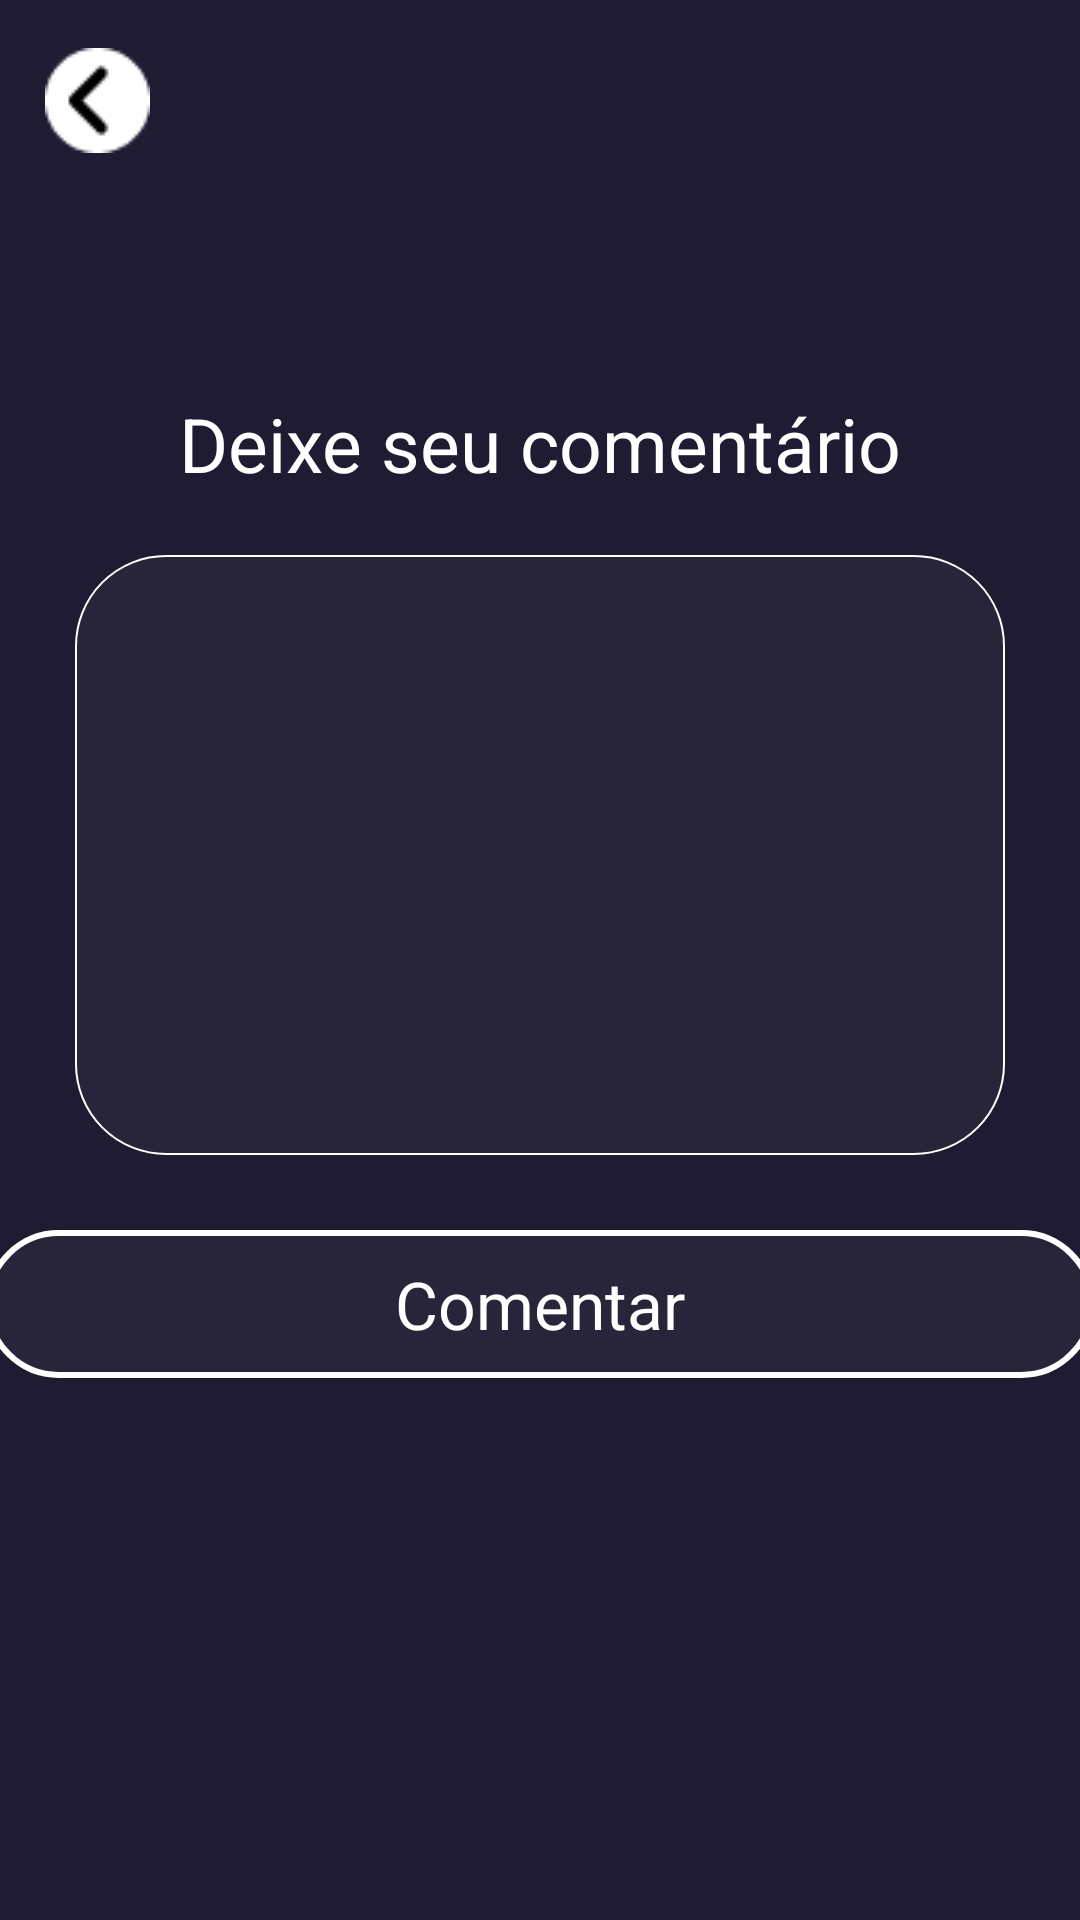

Screen size 1080px x 1920px. Icon name, then its box in pixels as (x1, y1, x2, y2):
back: (45, 48, 150, 153)
